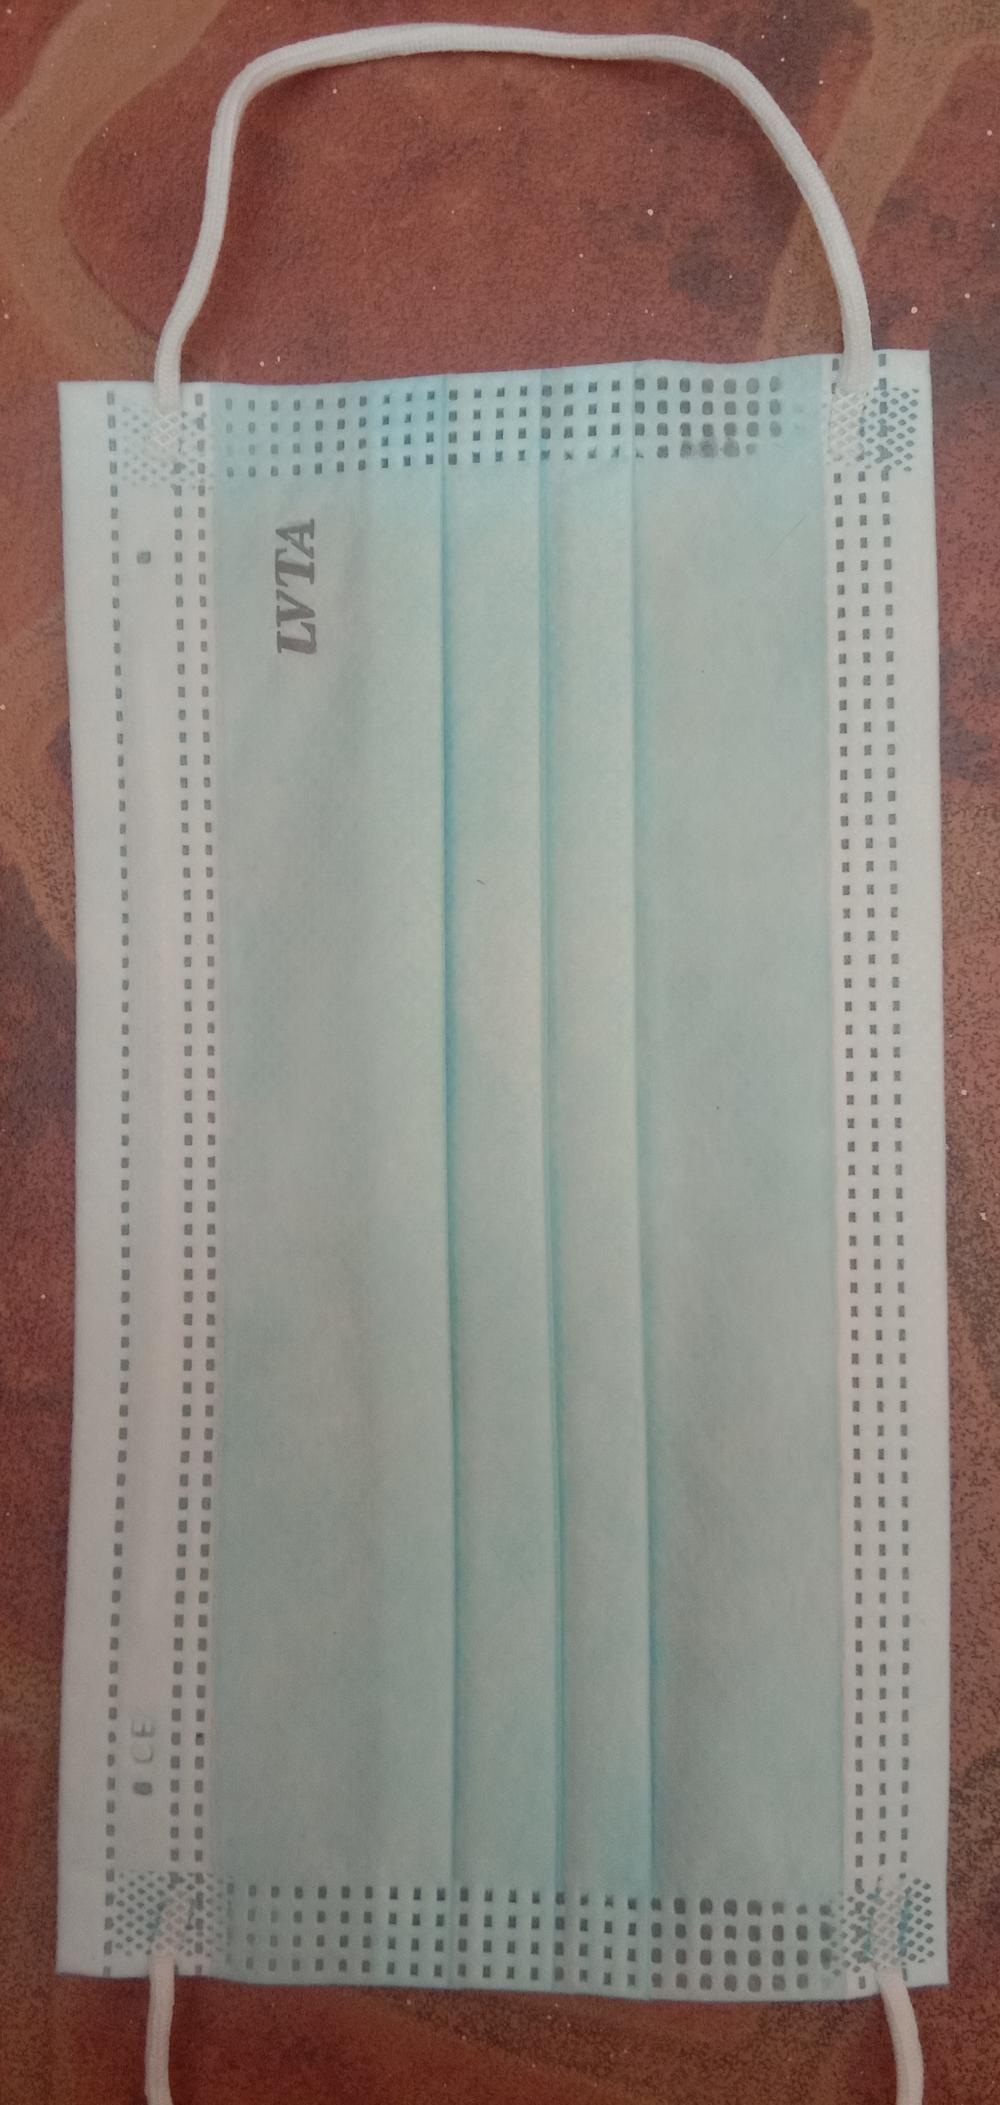Face Mask: (59, 378, 946, 1991)
